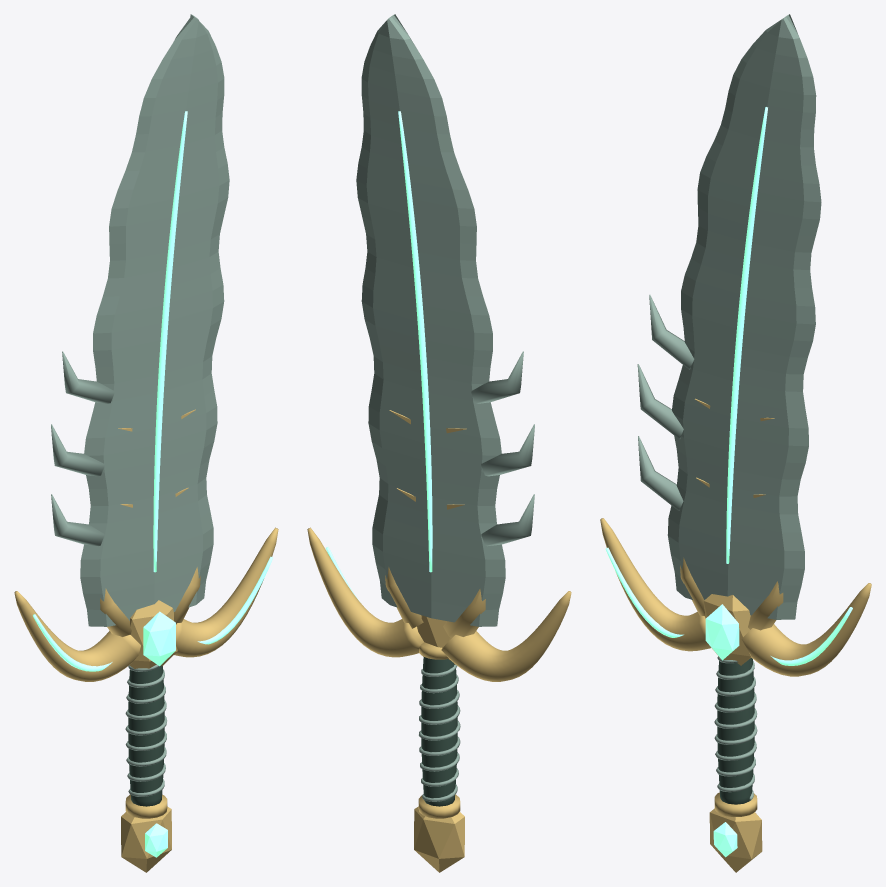
File: verdant_clover_blade.glb
3 renders of one model, left to right at view 1: azimuth 30°, elevation 25°; view 2: azimuth 150°, elevation 25°; view 3: azimuth 330°, elevation 25°, orthographic. The views are drawn at different scales.
Visible parts, largest first — view 1: Clover Greatblade blade, Tapered leather grip.001, Swept guard wing.002, Swept guard wing.003, Curved fuller inlay.002, Faceted pommel.001, Helical grip binding.001, Guard gemstone.001, Guard socket.001, Hooked edge spur, Hooked edge spur.001, Hooked edge spur.002 (+6 smaller); view 2: Clover Greatblade blade, Swept guard wing.002, Swept guard wing.003, Tapered leather grip.001, Curved fuller inlay.003, Faceted pommel.001, Helical grip binding.001, Hooked edge spur, Hooked edge spur.001, Hooked edge spur.002, Crown blade prong, Guard socket.001 (+2 smaller); view 3: Clover Greatblade blade, Tapered leather grip.001, Swept guard wing.003, Swept guard wing.002, Curved fuller inlay.002, Helical grip binding.001, Faceted pommel.001, Guard gemstone.001, Guard socket.001, Hooked edge spur, Hooked edge spur.002, Hooked edge spur.001 (+6 smaller).
Part boxes in pixels (left/top/right/bottom): Clover Greatblade blade: left=80, top=14, right=229, bottom=626; Tapered leather grip.001: left=128, top=665, right=164, bottom=806; Swept guard wing.002: left=14, top=591, right=140, bottom=681; Swept guard wing.003: left=174, top=527, right=278, bottom=657; Curved fuller inlay.002: left=153, top=111, right=187, bottom=572; Faceted pommel.001: left=121, top=806, right=171, bottom=872; Helical grip binding.001: left=125, top=664, right=167, bottom=796; Guard gemstone.001: left=143, top=611, right=175, bottom=666; Guard socket.001: left=129, top=600, right=177, bottom=668; Hooked edge spur: left=51, top=494, right=104, bottom=545; Hooked edge spur.001: left=51, top=424, right=104, bottom=476; Hooked edge spur.002: left=62, top=351, right=114, bottom=403; Clover Greatblade blade: left=356, top=14, right=505, bottom=626; Swept guard wing.002: left=441, top=591, right=571, bottom=681; Swept guard wing.003: left=307, top=527, right=423, bottom=657; Tapered leather grip.001: left=421, top=657, right=457, bottom=806; Curved fuller inlay.003: left=398, top=111, right=432, bottom=572; Faceted pommel.001: left=414, top=806, right=464, bottom=872; Helical grip binding.001: left=418, top=664, right=460, bottom=801; Hooked edge spur: left=481, top=494, right=534, bottom=546; Hooked edge spur.001: left=481, top=424, right=534, bottom=476; Hooked edge spur.002: left=471, top=351, right=523, bottom=403; Crown blade prong: left=443, top=589, right=485, bottom=638; Guard socket.001: left=417, top=615, right=455, bottom=664; Clover Greatblade blade: left=667, top=14, right=821, bottom=619; Tapered leather grip.001: left=717, top=658, right=754, bottom=804; Swept guard wing.003: left=741, top=583, right=871, bottom=676; Swept guard wing.002: left=600, top=518, right=711, bottom=651; Curved fuller inlay.002: left=726, top=107, right=767, bottom=563; Helical grip binding.001: left=714, top=656, right=757, bottom=800; Faceted pommel.001: left=709, top=808, right=762, bottom=872; Guard gemstone.001: left=705, top=604, right=739, bottom=660; Guard socket.001: left=703, top=594, right=751, bottom=665; Hooked edge spur: left=638, top=436, right=683, bottom=510; Hooked edge spur.002: left=649, top=295, right=694, bottom=369; Hooked edge spur.001: left=637, top=364, right=683, bottom=439.
Size of the model in its own units: 1.96 by 6 by 0.3739.
